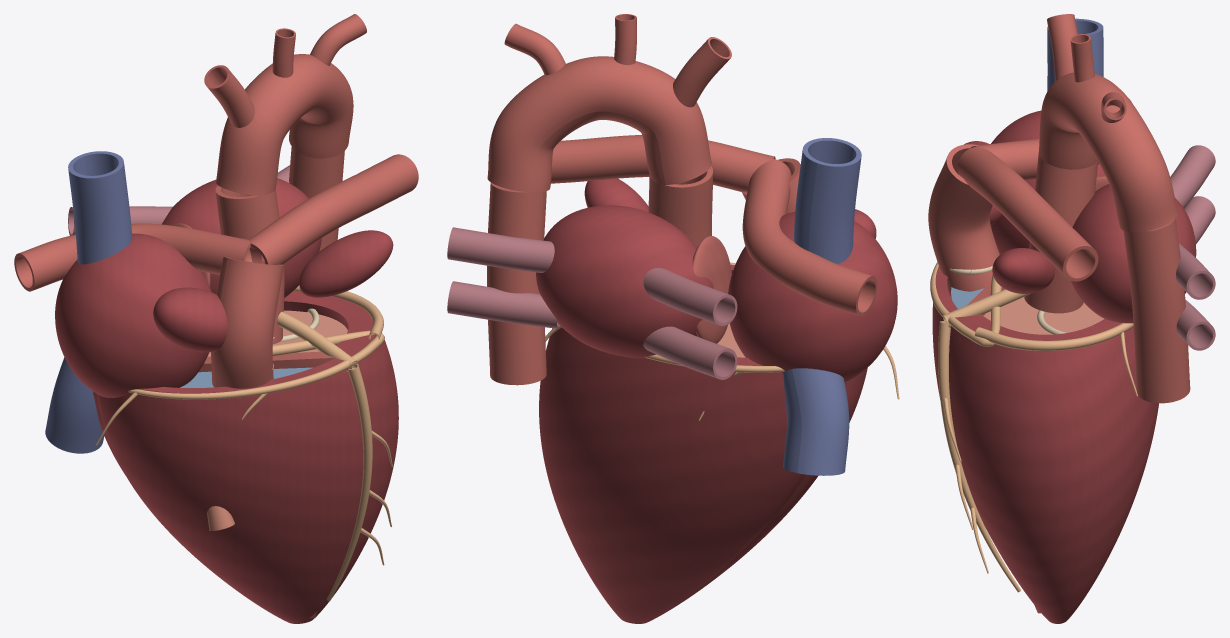
The model's file is heart-original.glb.
The picture shows the model from 3 angles, left to right: view 1: azimuth 30°, elevation 25°; view 2: azimuth 150°, elevation 25°; view 3: azimuth 270°, elevation 25°; orthographic projection. The views are drawn at different scales.
Visible parts, largest first — view 1: right-ventricular-wall, right-atrium, aortic-arch, left-ventricular-wall, pulmonary-trunk, left-pulmonary-artery, superior-vena-cava, right-pulmonary-artery, left-auricle, right-auricle, left-atrium, inferior-vena-cava (+13 smaller); view 2: left-ventricular-wall, aortic-arch, left-atrium, right-atrium, right-pulmonary-artery, descending-aorta, superior-vena-cava, inferior-vena-cava, left-pulmonary-artery, left-superior-pulmonary-vein, left-inferior-pulmonary-vein, ascending-aorta (+9 smaller); view 3: left-ventricular-wall, aortic-arch, descending-aorta, left-pulmonary-artery, pulmonary-trunk, left-atrium, ascending-aorta, left-anterior-descending, left-auricle, left-ventricle, right-atrium, left-circumflex (+12 smaller).
Boxes of the visible parts, x1,y1,x2,y2 form: right-ventricular-wall: (97, 358, 363, 623); right-atrium: (55, 233, 211, 397); aortic-arch: (216, 54, 353, 195); left-ventricular-wall: (93, 290, 398, 620); pulmonary-trunk: (211, 256, 283, 388); left-pulmonary-artery: (245, 154, 418, 264); superior-vena-cava: (68, 151, 132, 264); right-pulmonary-artery: (14, 223, 263, 291); left-auricle: (299, 230, 393, 297); right-auricle: (153, 287, 227, 352); left-atrium: (162, 178, 321, 297); inferior-vena-cava: (45, 357, 104, 453); left-ventricular-wall: (539, 327, 805, 623); aortic-arch: (487, 56, 711, 192); left-atrium: (536, 205, 713, 358); right-atrium: (728, 211, 897, 382); right-pulmonary-artery: (742, 159, 877, 316); descending-aorta: (487, 182, 546, 385); superior-vena-cava: (794, 138, 861, 264); inferior-vena-cava: (783, 368, 849, 475); left-pulmonary-artery: (551, 135, 775, 191); left-superior-pulmonary-vein: (447, 227, 554, 272); left-inferior-pulmonary-vein: (447, 281, 558, 328); ascending-aorta: (648, 166, 713, 247); left-ventricular-wall: (949, 314, 1158, 623); aortic-arch: (1038, 72, 1177, 232); descending-aorta: (1123, 218, 1190, 403); left-pulmonary-artery: (957, 147, 1098, 281); pulmonary-trunk: (928, 144, 999, 292); left-atrium: (1071, 184, 1196, 323); ascending-aorta: (1024, 153, 1097, 313); left-anterior-descending: (938, 321, 1020, 592); left-auricle: (992, 248, 1054, 293); left-ventricle: (983, 297, 1104, 334); right-atrium: (991, 110, 1105, 254); left-circumflex: (975, 323, 1137, 396).
Bounding box in the file's own units: 3.2 × 4.77 × 2.15.
